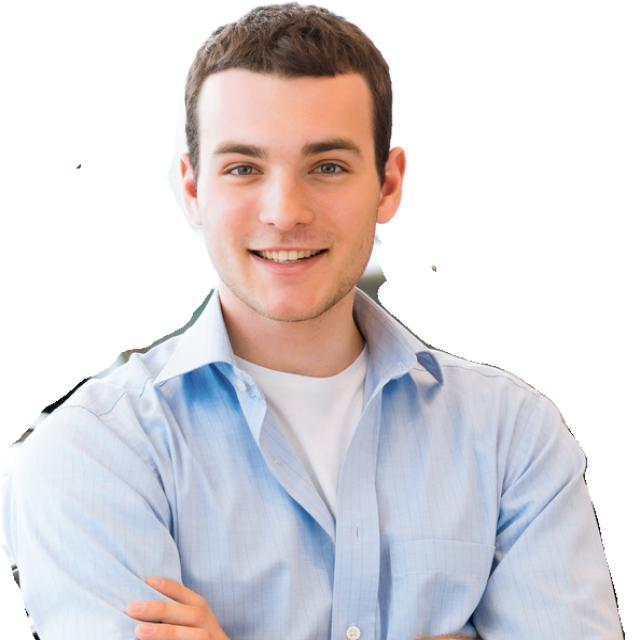mobile_phonerotation: (2, 2, 625, 638)
